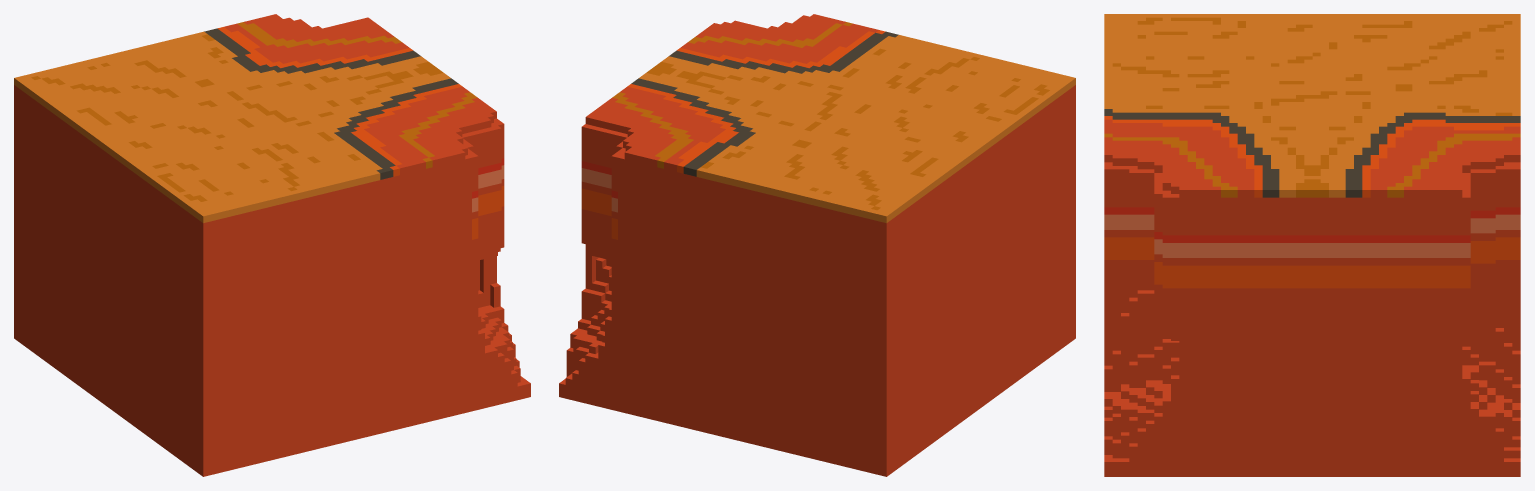
File: western6.obj
The picture shows the model from 3 angles, left to right: view 1: azimuth 30°, elevation 25°; view 2: azimuth 150°, elevation 25°; view 3: azimuth 270°, elevation 25°; orthographic projection. The views are drawn at different scales.
Size of the model in its own units: 5 by 3.8 by 5.
Materials: 1 (1 with a texture image).
